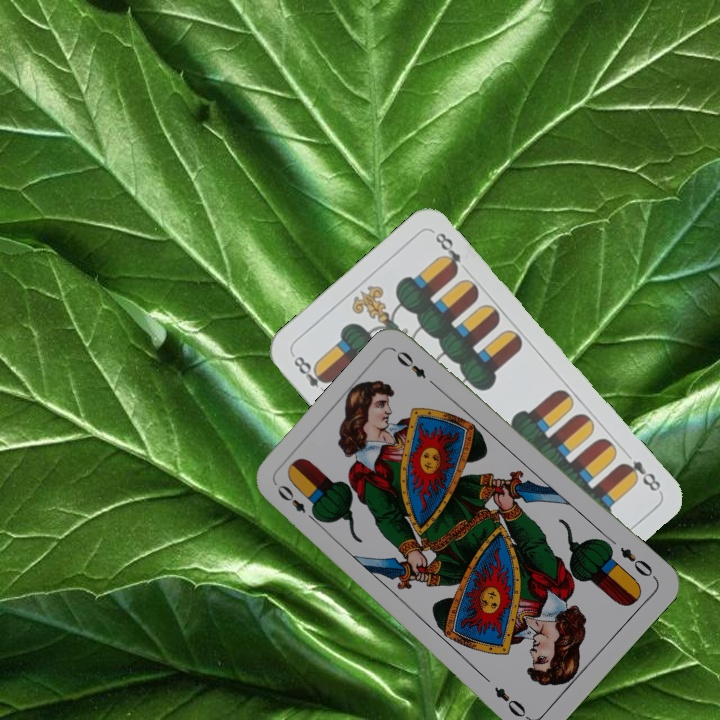E8: (289, 352, 333, 399), (616, 456, 664, 494)
EO: (272, 480, 322, 526), (616, 543, 659, 582)
